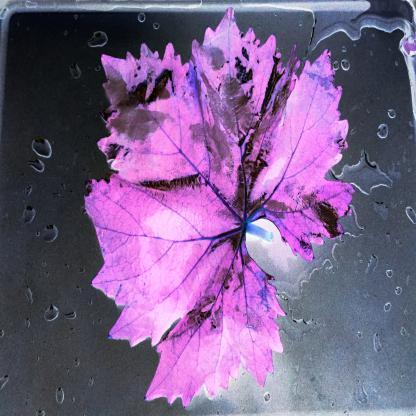grape leaf black rot: (72, 9, 358, 406)
